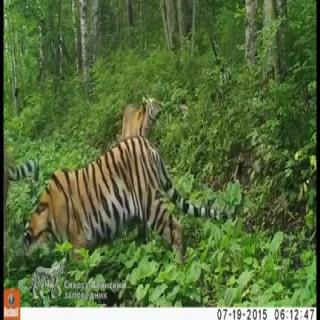Tiger: (20, 130, 202, 286), (118, 86, 167, 146)
